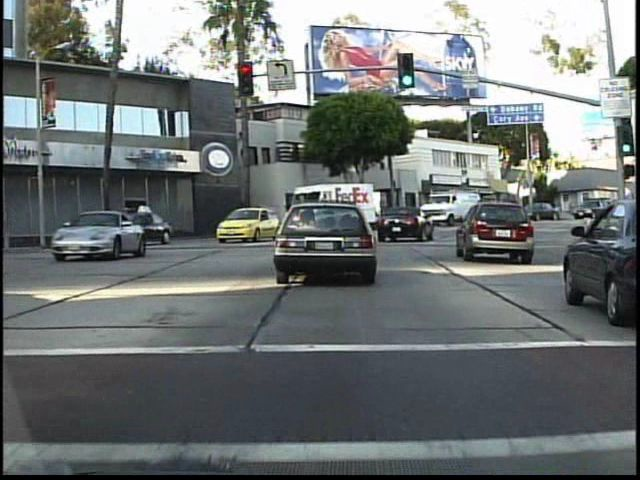person: (248, 201, 265, 231)
